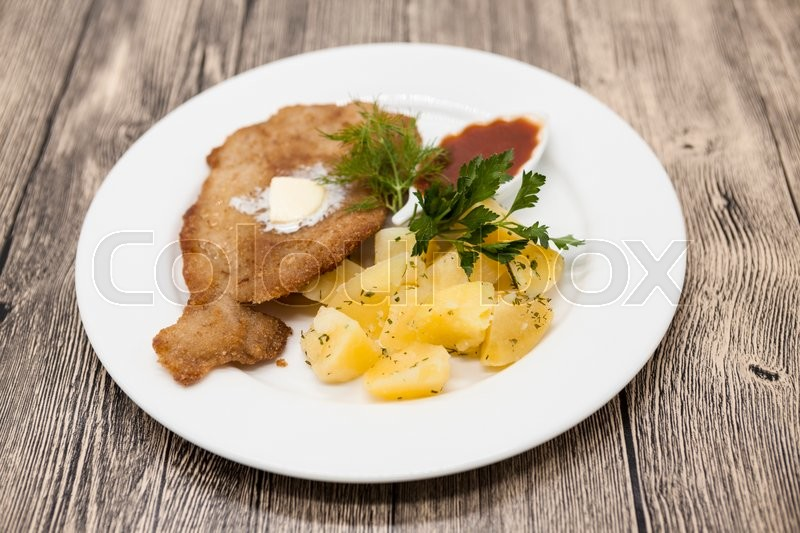boiled potatoes: (306, 222, 562, 373)
